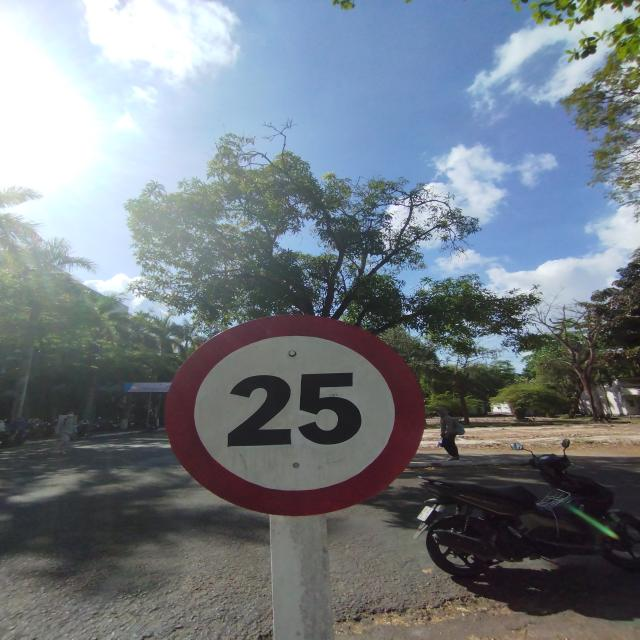Tre_Em: (160, 311, 426, 519)
